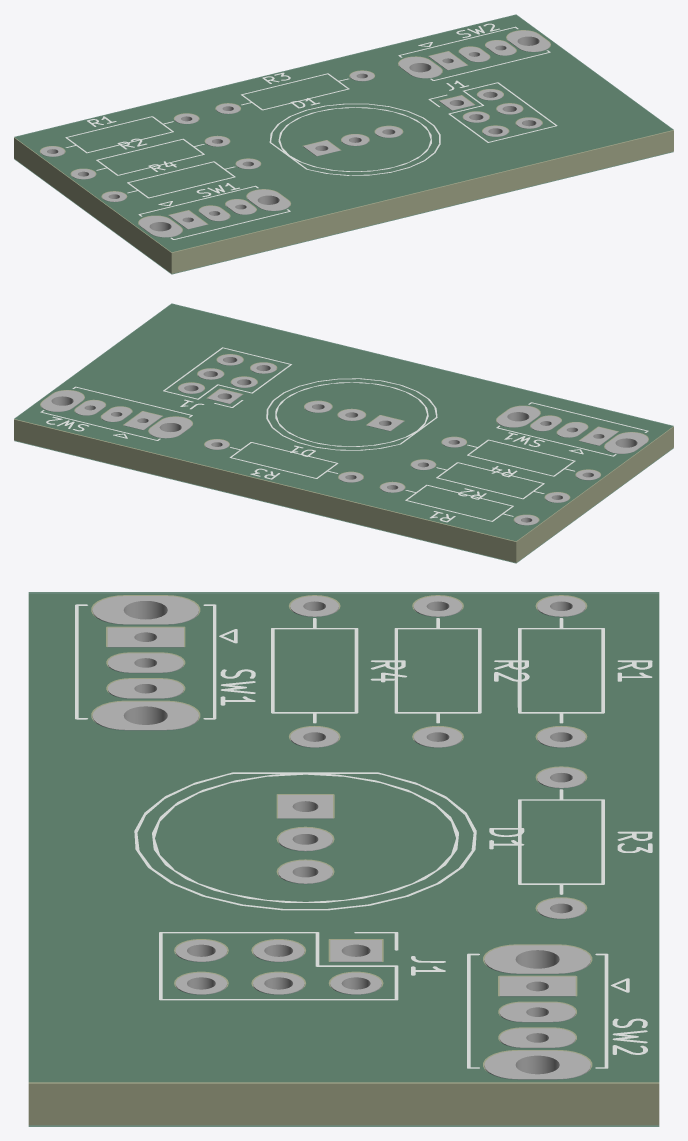
Rendered from addonspothardware-red-yellow-green-light-sao.glb.
3 renders of one model, top to bottom at view 1: azimuth 30°, elevation 25°; view 2: azimuth 150°, elevation 25°; view 3: azimuth 270°, elevation 25°, orthographic. The views are drawn at different scales.
Visible parts, largest first — view 1: =>[0:1:1:6], =>[0:1:1:4], =>[0:1:1:2], =>[0:1:1:3]; view 2: =>[0:1:1:6], =>[0:1:1:4], =>[0:1:1:2], =>[0:1:1:3]; view 3: =>[0:1:1:6], =>[0:1:1:4], =>[0:1:1:2], =>[0:1:1:3].
Part boxes in pixels (left/top/right/bottom): =>[0:1:1:6]: left=14, top=16, right=673, bottom=273; =>[0:1:1:4]: left=14, top=14, right=673, bottom=274; =>[0:1:1:2]: left=40, top=30, right=550, bottom=237; =>[0:1:1:3]: left=65, top=23, right=557, bottom=239; =>[0:1:1:6]: left=14, top=305, right=673, bottom=562; =>[0:1:1:4]: left=14, top=303, right=673, bottom=563; =>[0:1:1:2]: left=41, top=354, right=648, bottom=525; =>[0:1:1:3]: left=40, top=347, right=648, bottom=522; =>[0:1:1:6]: left=28, top=594, right=659, bottom=1125; =>[0:1:1:4]: left=28, top=592, right=659, bottom=1126; =>[0:1:1:2]: left=92, top=596, right=590, bottom=1079; =>[0:1:1:3]: left=75, top=604, right=652, bottom=1068.
Bounding box in the file's own units: 0.0381 × 0.00163 × 0.0207.
